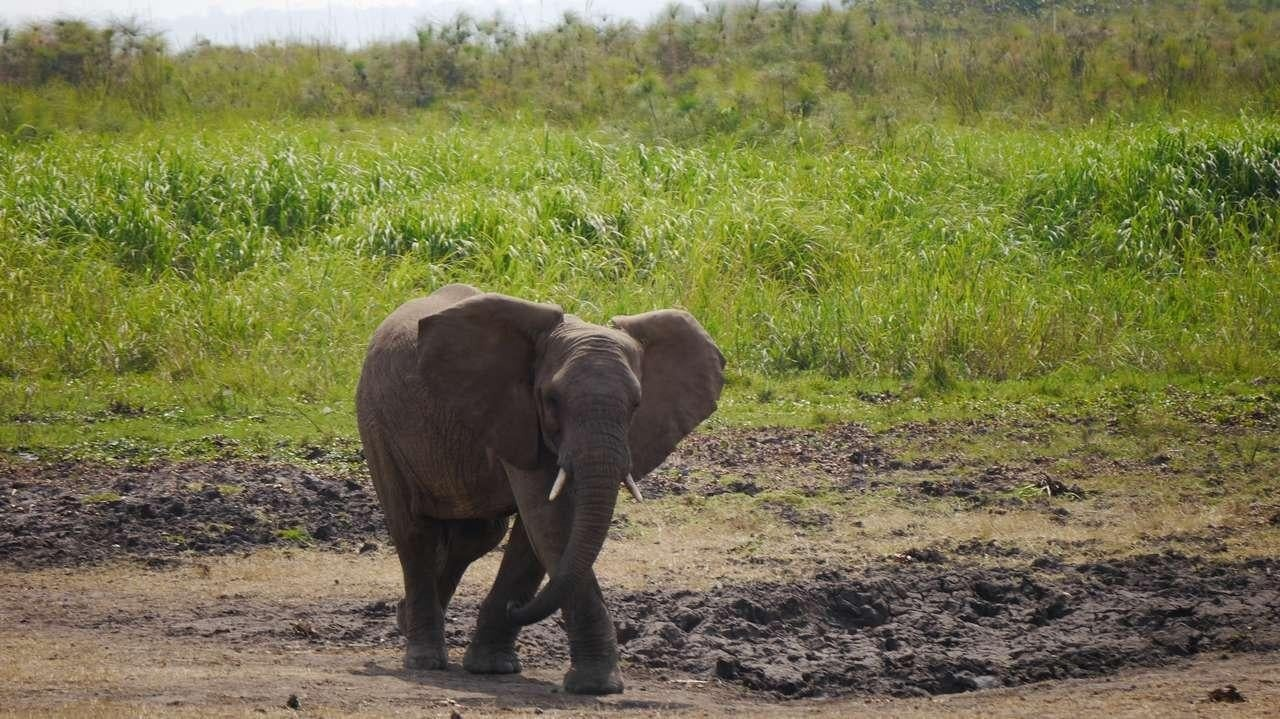elephant: (349, 274, 735, 695)
